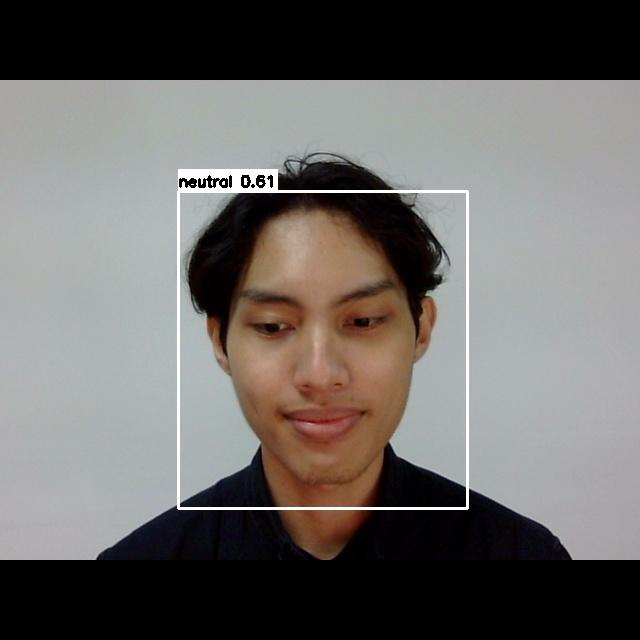Happy: (212, 262, 433, 461)
